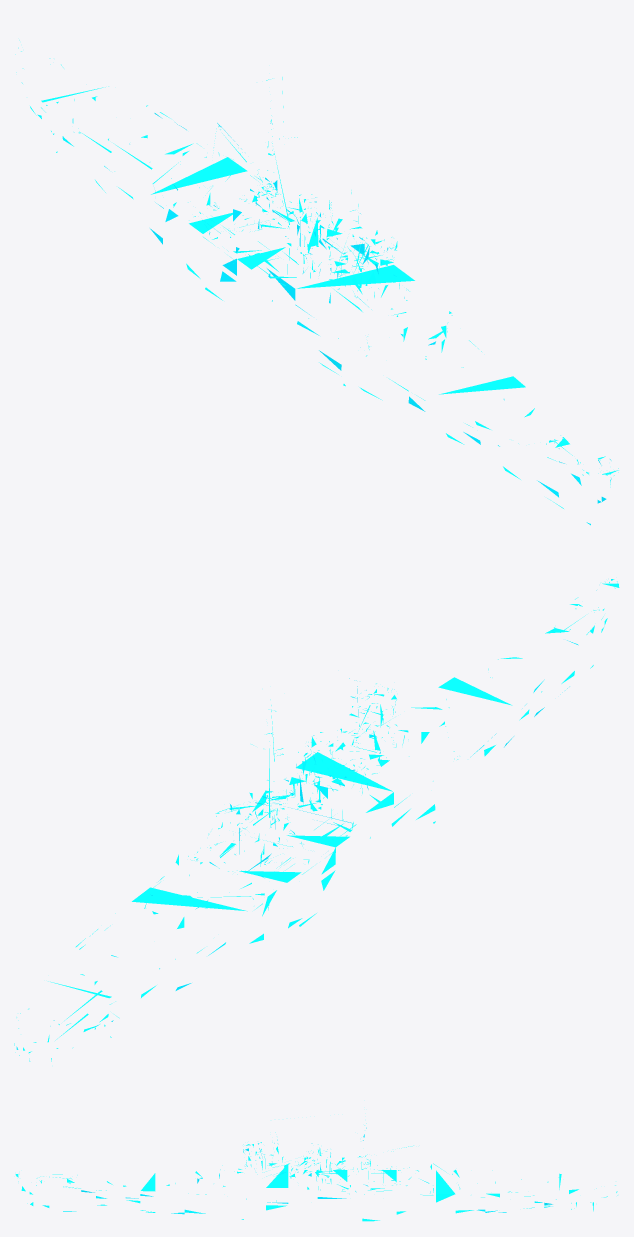
File: Shimanto.glb
3 renders of one model, top to bottom at view 1: azimuth 30°, elevation 25°; view 2: azimuth 150°, elevation 25°; view 3: azimuth 270°, elevation 25°, orthographic. The views are drawn at different scales.
Bounding box in the file's own units: 1.64 × 3.05 × 14.59.
